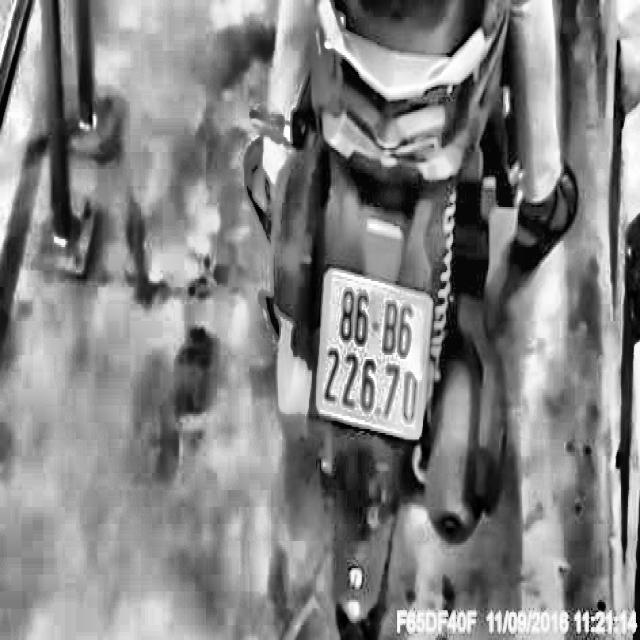plate: (311, 258, 442, 447)
